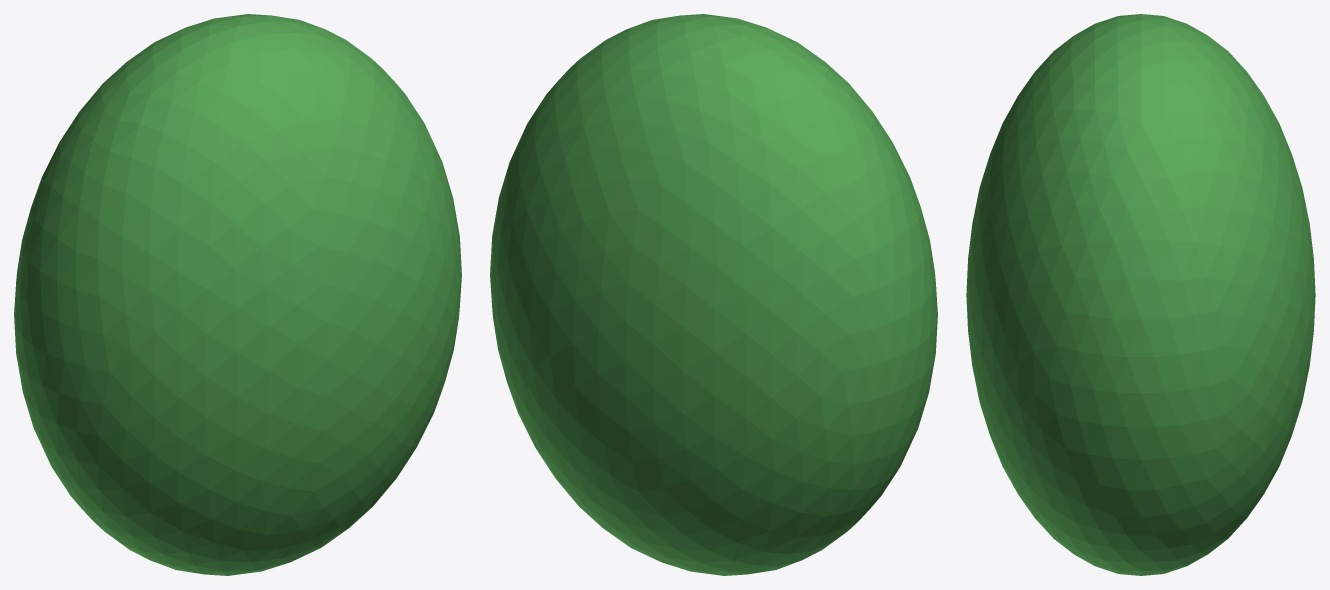
File: photosynthesis_process.glb
3 renders of one model, left to right at view 1: azimuth 30°, elevation 25°; view 2: azimuth 150°, elevation 25°; view 3: azimuth 270°, elevation 25°, orthographic.
Visible parts, largest first — view 1: world; view 2: world; view 3: world.
Part boxes in pixels (bbox=[...]): world: bbox=[14, 14, 461, 575]; world: bbox=[490, 14, 937, 575]; world: bbox=[966, 14, 1315, 575].
Bounding box in the file's own units: 4 × 5 × 3.
